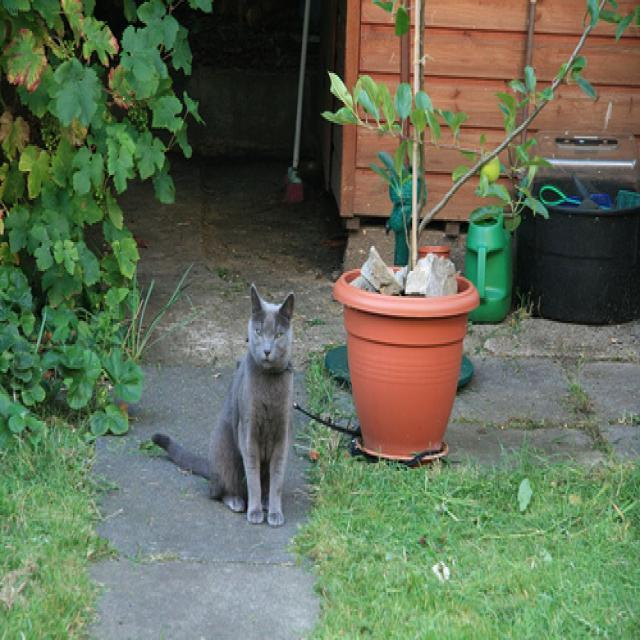Russian_Blue: (242, 275, 299, 373)
